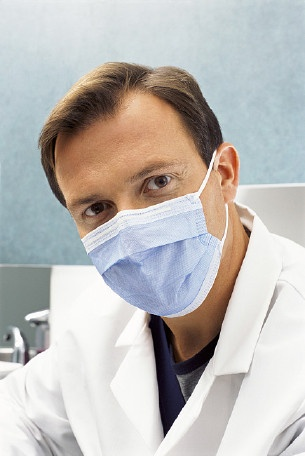Mask: (62, 149, 233, 320)
